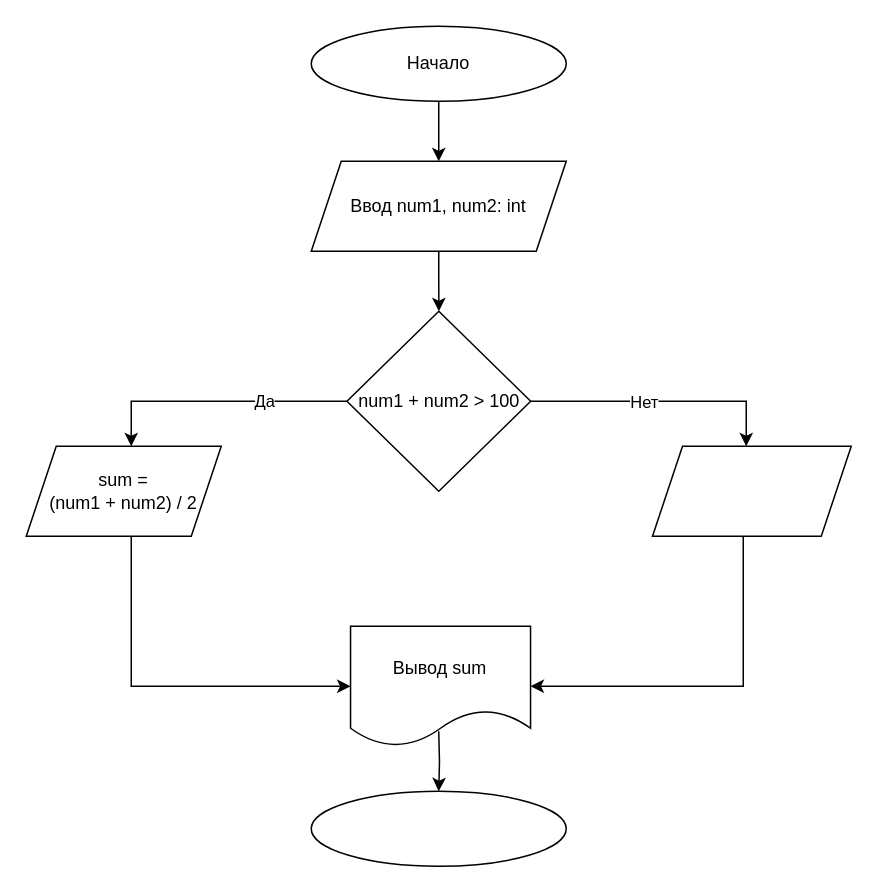
Some shapes in this 878 by 893 pixel diagram are drawn without their labels. Here are the shapes that lost their labels. From the top down, the centre of each, then its label:
At pixel 751 490: "sum = (num1 + num2) * 2".
At pixel 438 828: "Конец".
